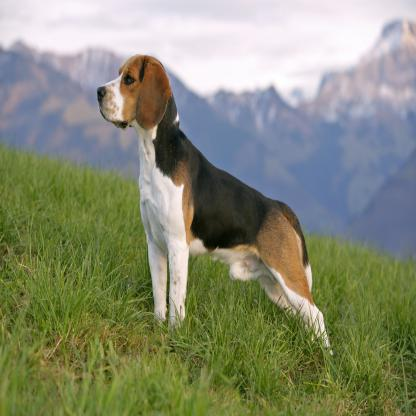Bigl: (93, 48, 348, 354)
